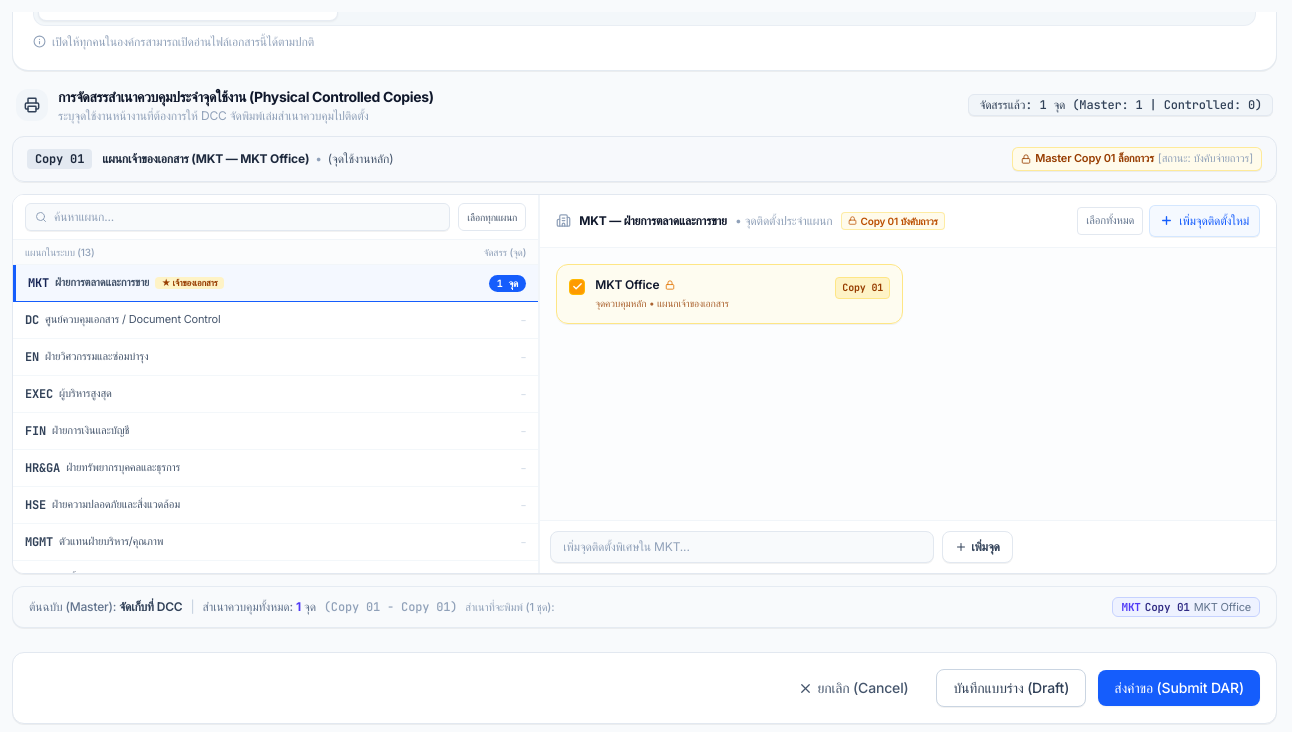
Scenario: High-Density Unified DAR Create Form Canvas Tests › 5. Enforces form validation and file type checking
The width and height of the screenshot is (1292, 732).
(page scrolled)
What coordinates should you click on to do the following:
click the button "ส่งคำขอ (Submit DAR)"
I would click on:
 (1179, 688)
Its box is left=1098, top=670, right=1260, bottom=706.
(page scrolled)
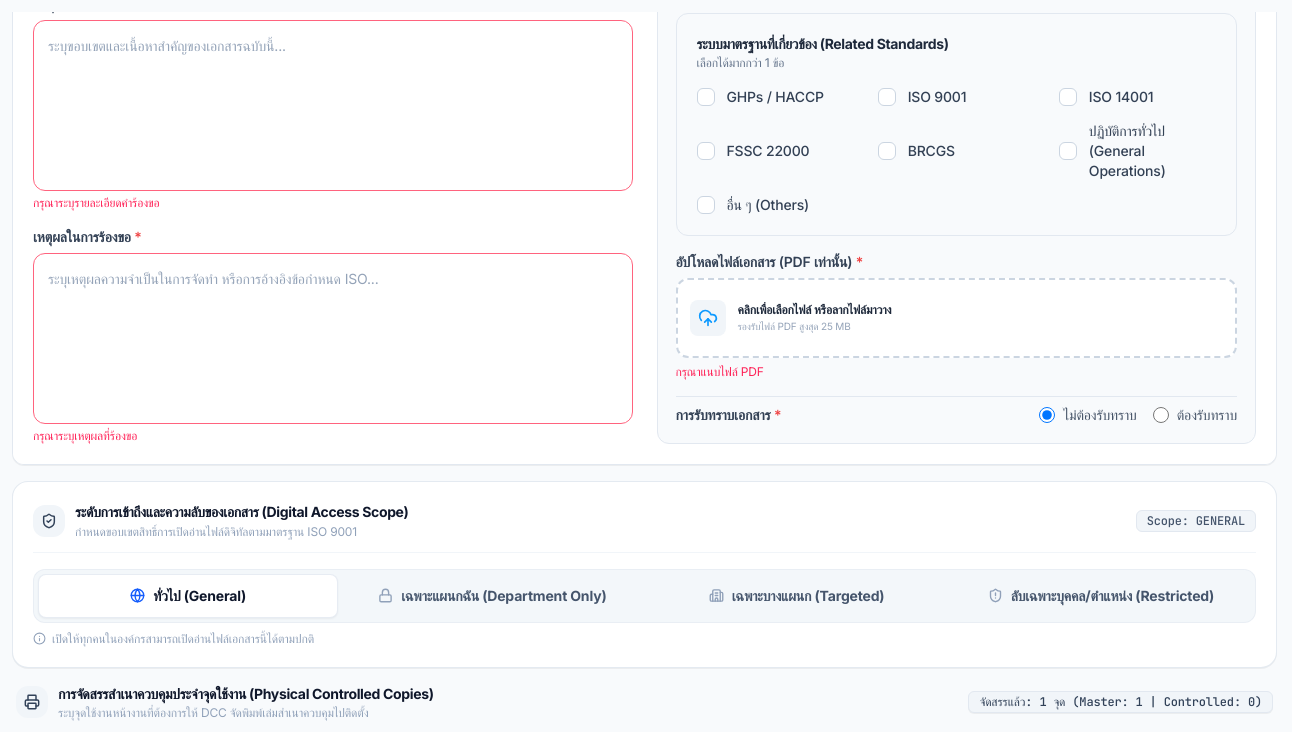
Expected: the text "กรุณาระบุรายละเอียดคำร้องขอ" is shown, left=33, top=195, right=160, bottom=210
Expected: the text "กรุณาระบุเหตุผลที่ร้องขอ" is shown, left=33, top=428, right=137, bottom=443
Expected: the text "กรุณาแนบไฟล์ PDF" is shown, left=676, top=364, right=764, bottom=379
